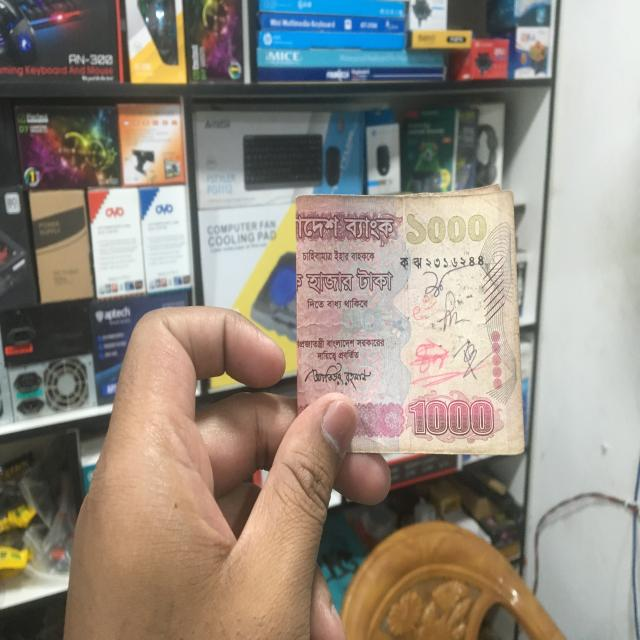Taka: (295, 192, 527, 448)
